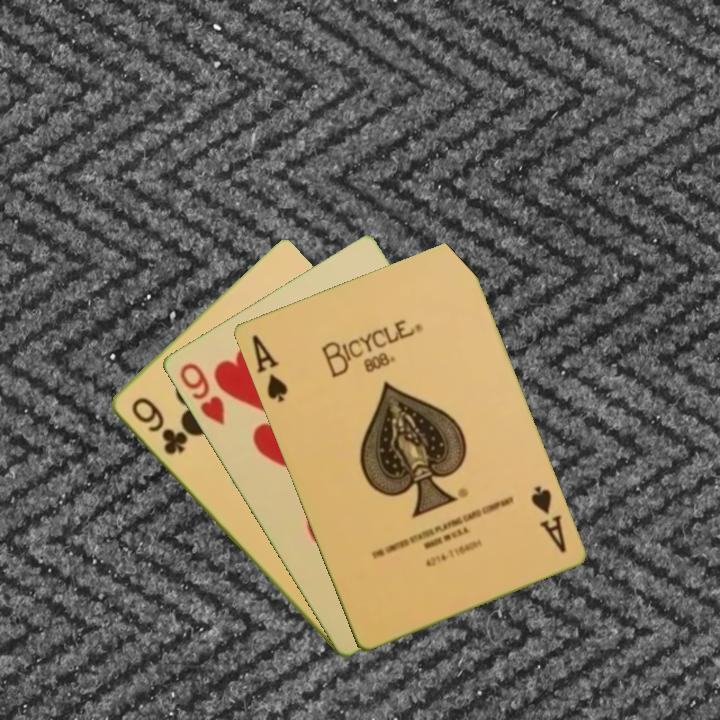9c: (127, 393, 189, 458)
9h: (175, 358, 227, 429)
As: (247, 331, 290, 406), (526, 482, 569, 556)
